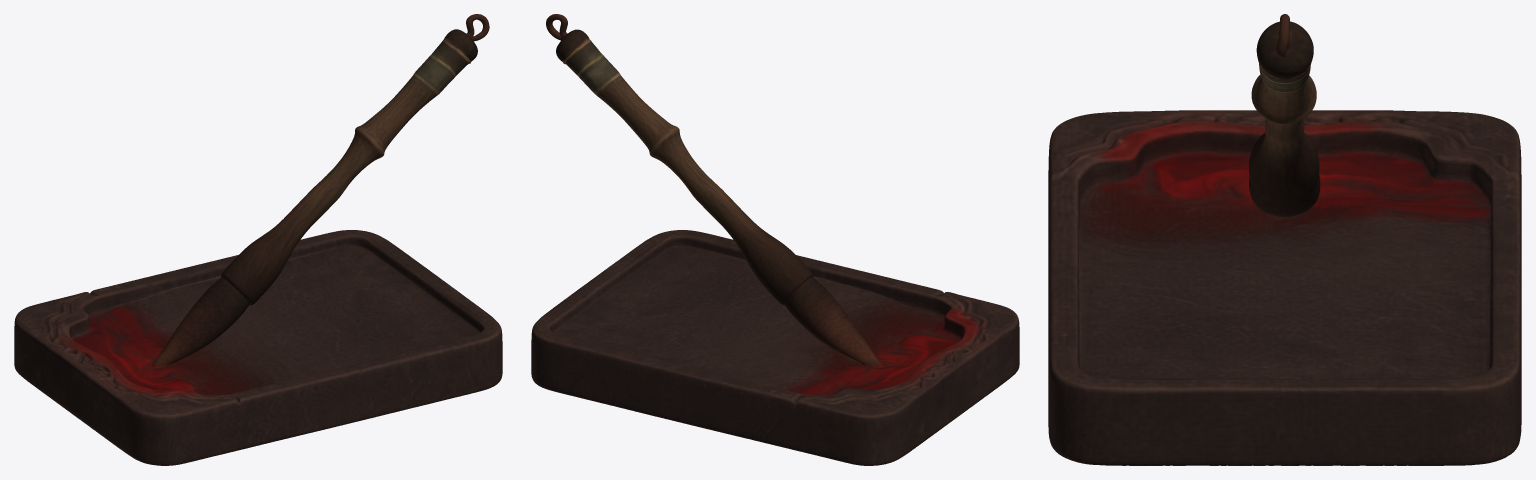
The model's file is story-dot.glb.
3 renders of one model, left to right at view 1: azimuth 30°, elevation 25°; view 2: azimuth 150°, elevation 25°; view 3: azimuth 270°, elevation 25°, orthographic. The views are drawn at different scales.
Visible parts, largest first — view 1: world; view 2: world; view 3: world.
Boxes of the visible parts, left/top/right/bottom form: world: left=14, top=14, right=502, bottom=465; world: left=531, top=14, right=1019, bottom=465; world: left=1048, top=14, right=1521, bottom=465.
Bounding box in the file's own units: 0.28 × 0.1993 × 0.1778.
1 material, 1 textured.
